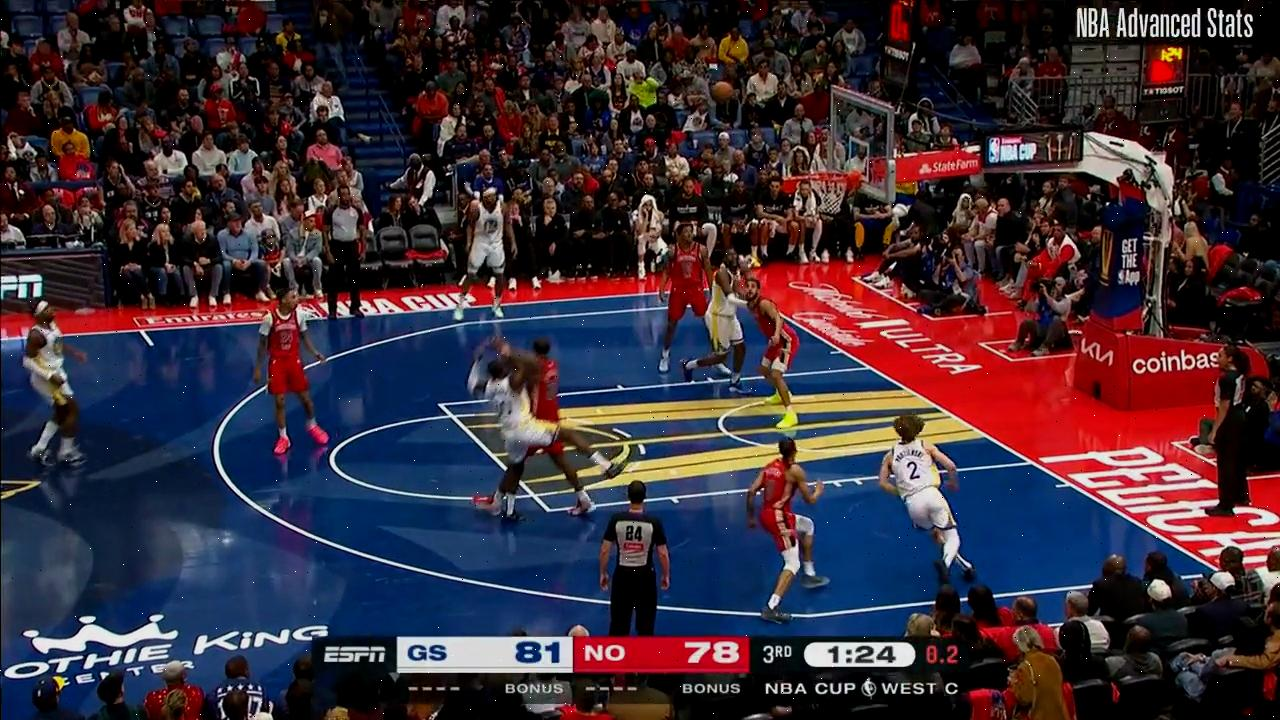basketball: (713, 81, 733, 101)
